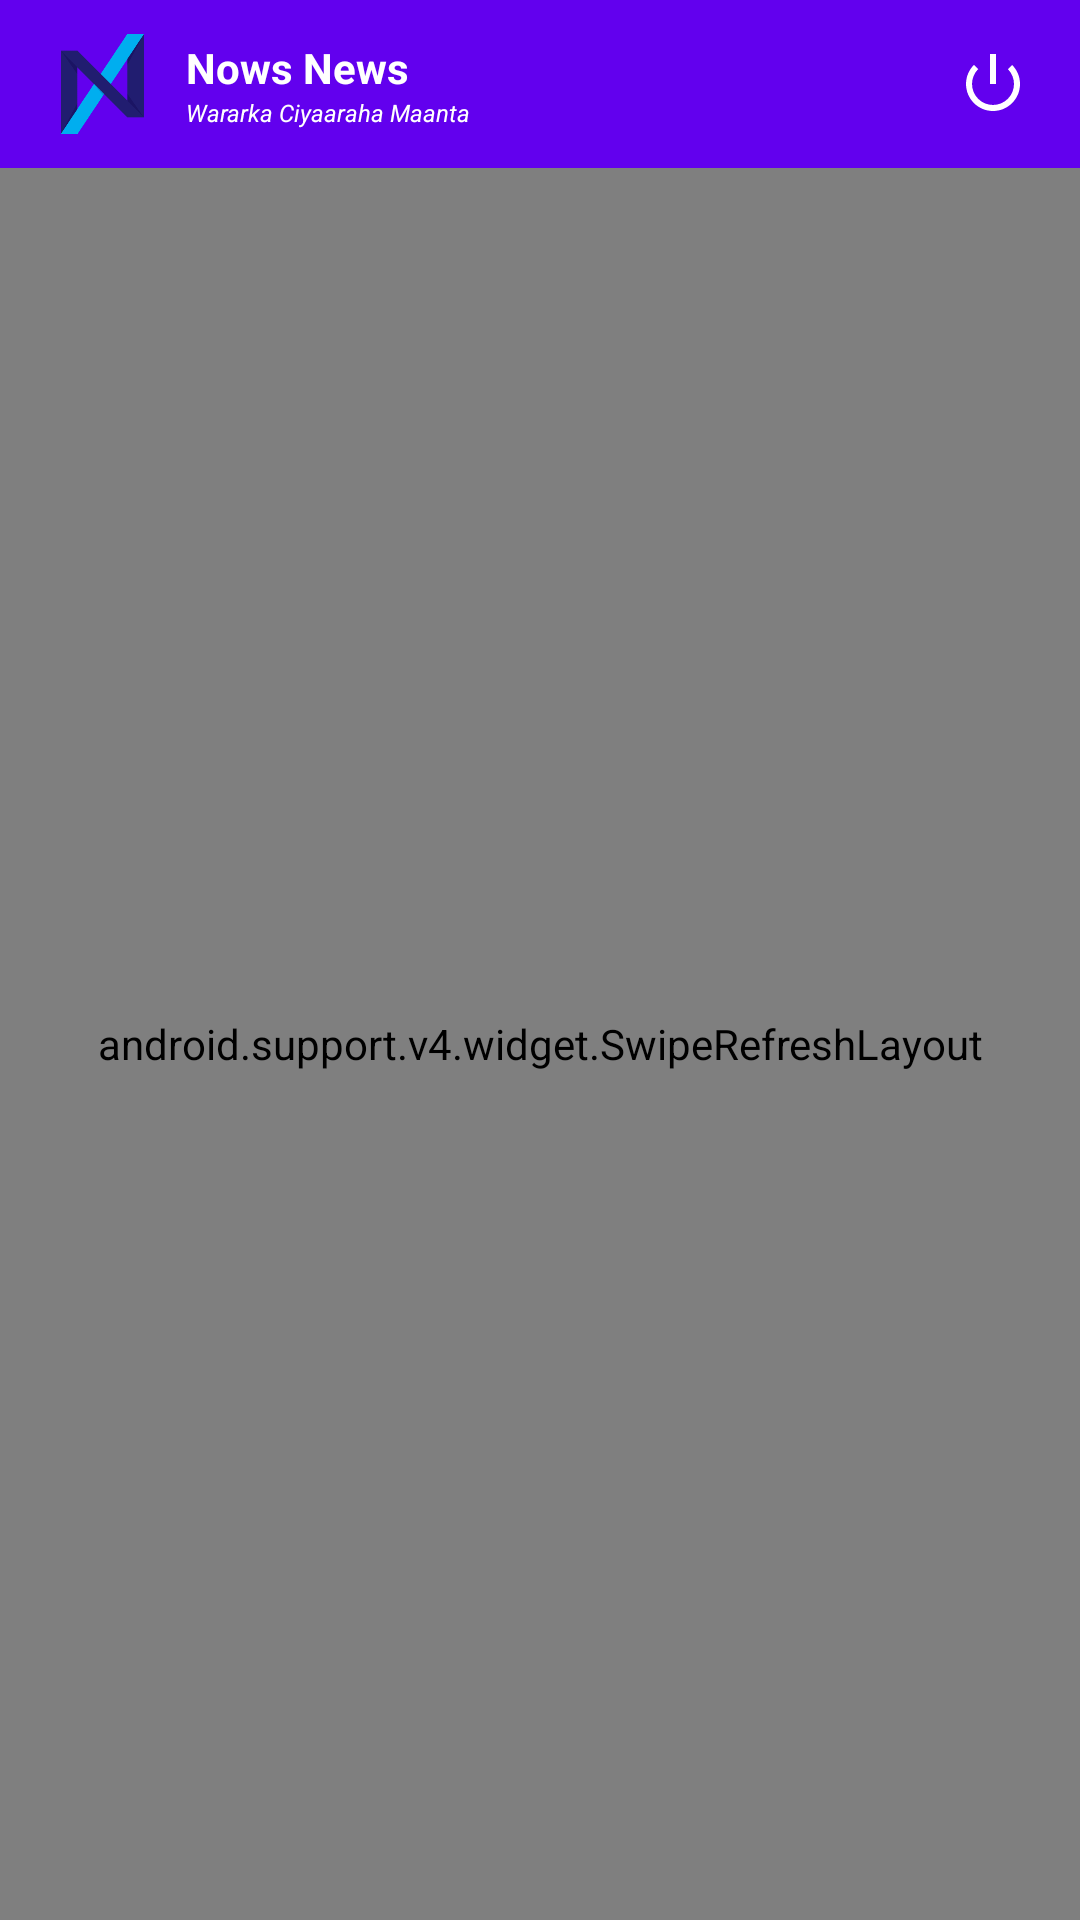

Screen size 1080x1920. Icon name, then its center in pixels as (x=x, y=y):
lock power off: (x=993, y=82)
